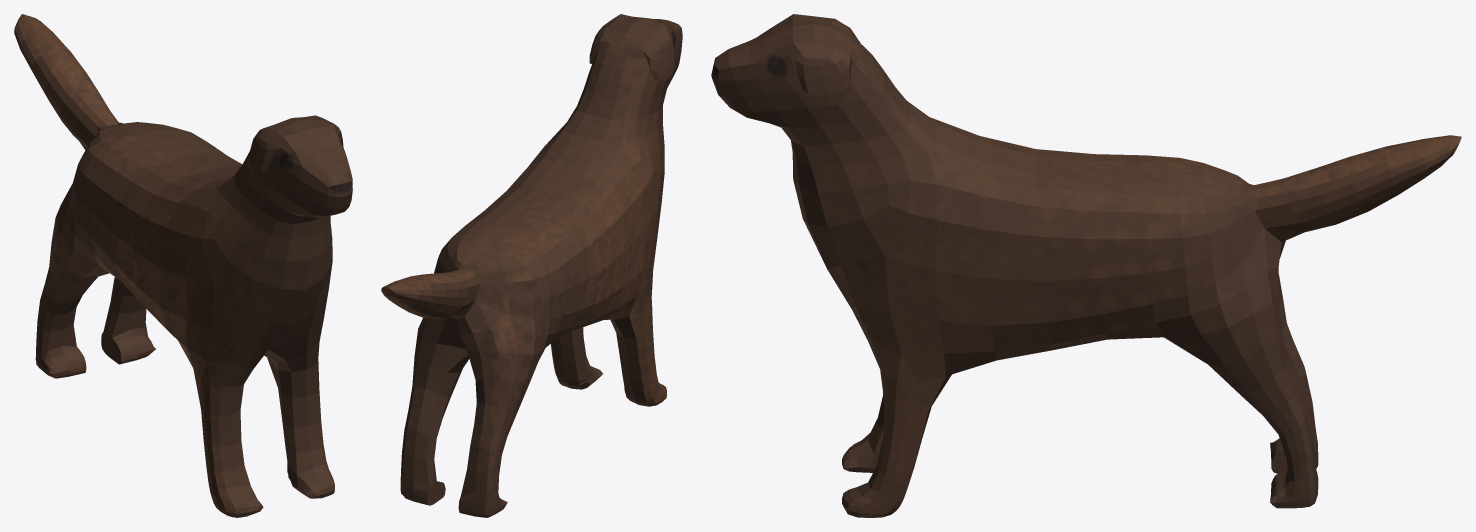
The model's file is Dog_Tiramisu.fbx.
The picture shows the model from 3 angles, left to right: view 1: azimuth 30°, elevation 25°; view 2: azimuth 150°, elevation 25°; view 3: azimuth 270°, elevation 25°; orthographic projection. The views are drawn at different scales.
Visible parts, largest first — view 1: DogMesh; view 2: DogMesh; view 3: DogMesh.
Boxes of the visible parts, <box> form: DogMesh: <box>14,14,352,517</box>; DogMesh: <box>381,14,682,517</box>; DogMesh: <box>711,14,1461,517</box>.
Bounding box in the file's own units: 120 × 355 × 517.
Materials: 1 (1 with a texture image).
